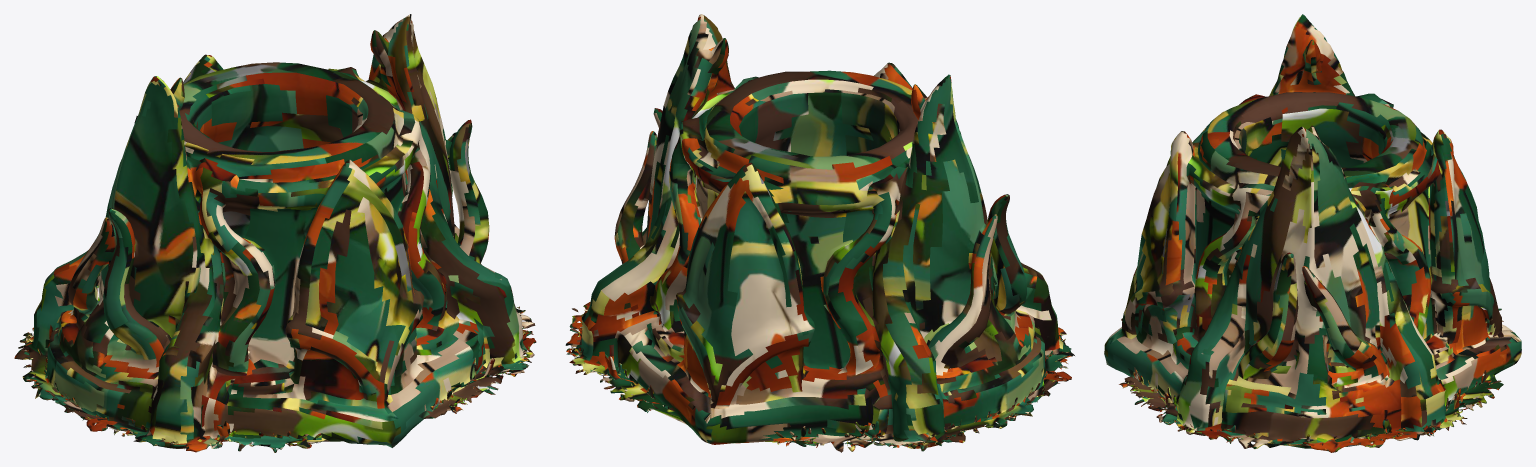
The model's file is nat-tw1-lv1-new.fbx.
3 views of the same model, side by side, from view 1: azimuth 30°, elevation 25°; view 2: azimuth 150°, elevation 25°; view 3: azimuth 270°, elevation 25° (orthographic). The views are drawn at different scales.
Parts seen in each view (by area): view 1: tripo_node_816154dc; view 2: tripo_node_816154dc; view 3: tripo_node_816154dc.
Boxes of the visible parts, bbox=[...] form: tripo_node_816154dc: bbox=[14, 14, 536, 452]; tripo_node_816154dc: bbox=[565, 14, 1074, 452]; tripo_node_816154dc: bbox=[1104, 14, 1521, 452].
Bounding box in the file's own units: 0.9623 × 0.6485 × 0.8365.
